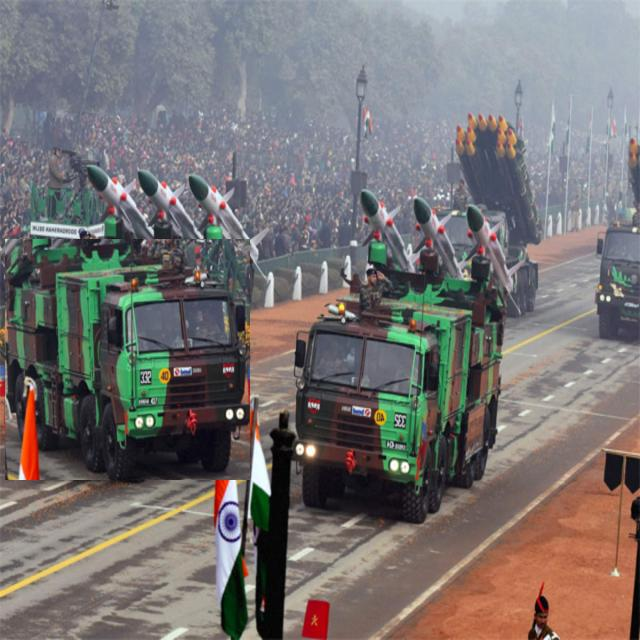truck: (5, 240, 250, 480), (294, 253, 505, 523)
